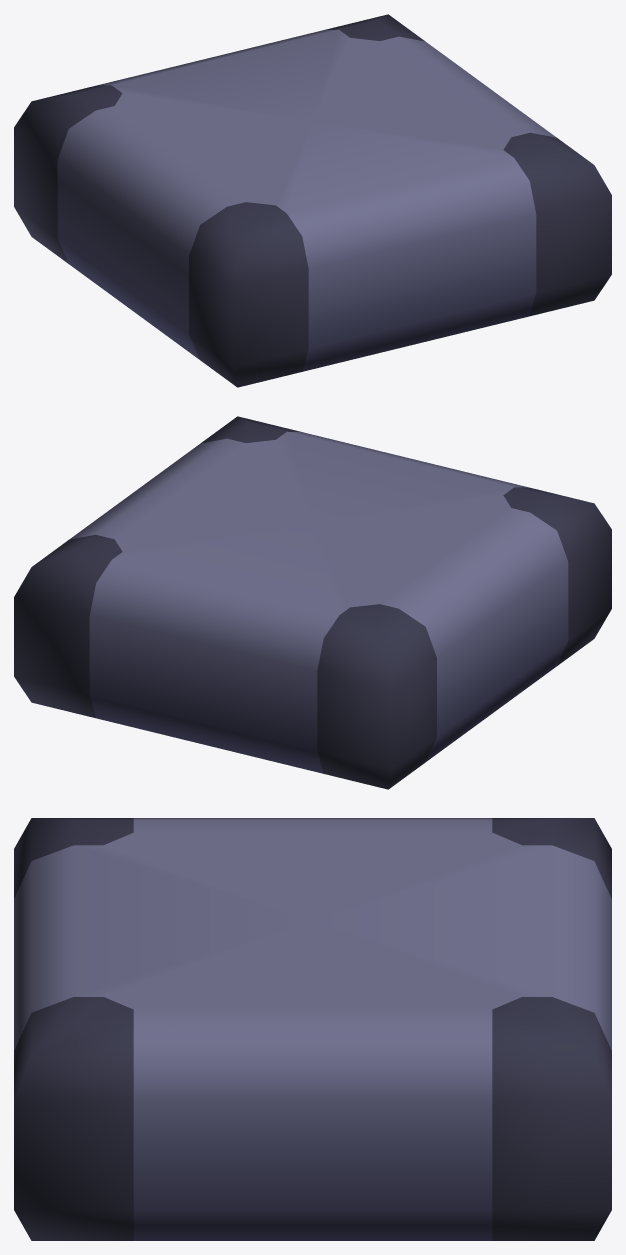
The model's file is conveyor-stripe-cross.glb.
3 views of the same model, one above another, from view 1: azimuth 30°, elevation 25°; view 2: azimuth 150°, elevation 25°; view 3: azimuth 270°, elevation 25° (orthographic). The views are drawn at different scales.
Parts seen in each view (by area): view 1: conveyor-stripe-cross; view 2: conveyor-stripe-cross; view 3: conveyor-stripe-cross.
Part boxes in pixels (<box>): conveyor-stripe-cross: <box>14,14,611,387</box>; conveyor-stripe-cross: <box>14,416,611,789</box>; conveyor-stripe-cross: <box>14,818,611,1240</box>.
Size of the model in its own units: 1 by 0.4 by 1.
